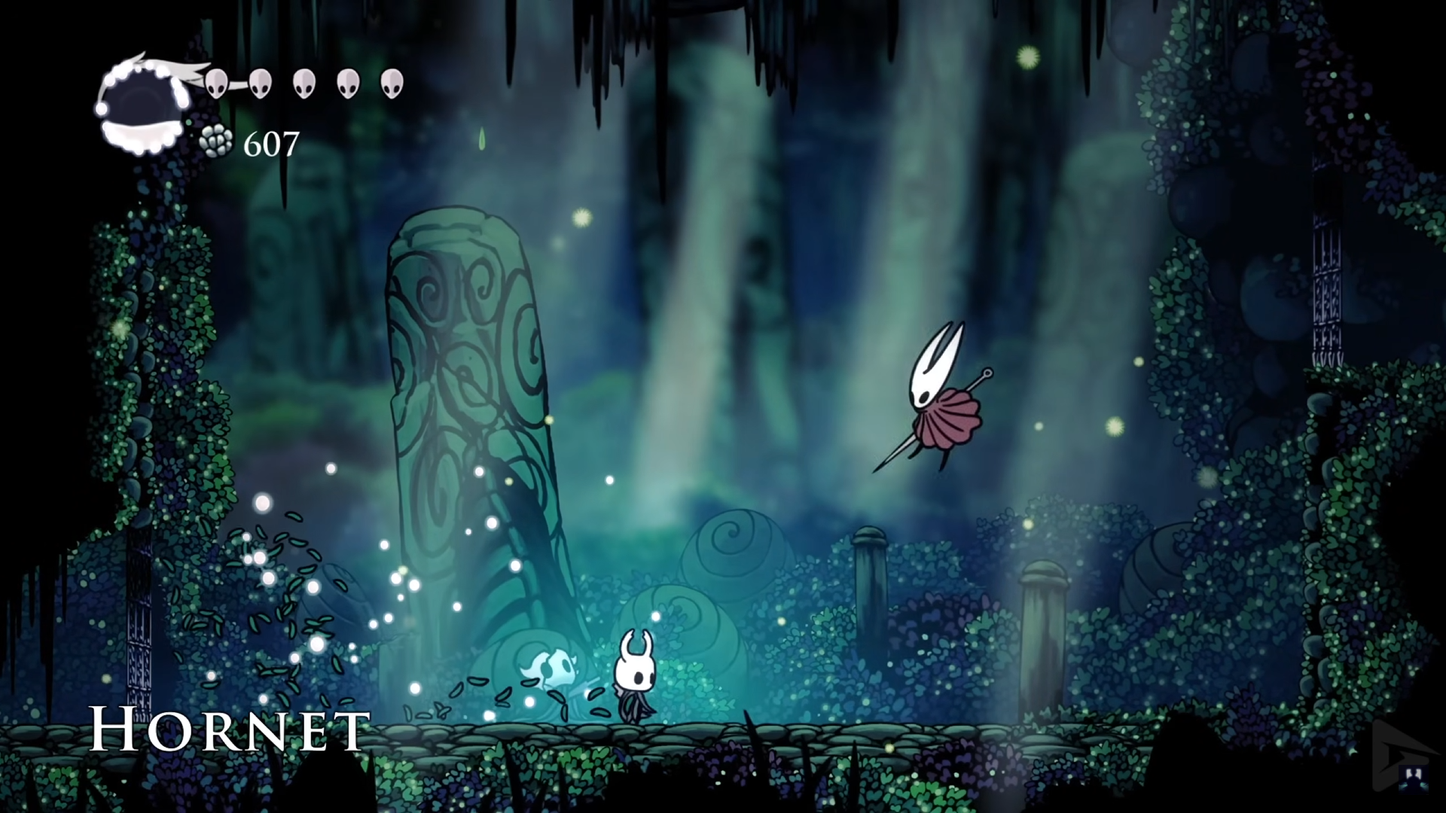HK: (603, 626, 664, 726)
